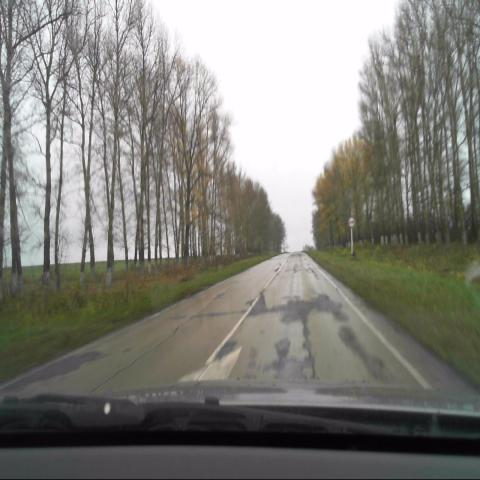3_20: (348, 214, 356, 228)
